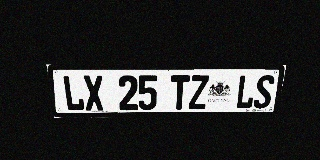2: (118, 75, 138, 110)
5: (138, 75, 157, 110)
L: (62, 75, 85, 111), (235, 75, 257, 109)
S: (253, 75, 275, 109)
T: (170, 75, 190, 110)
X: (83, 75, 105, 111)
Z: (189, 75, 209, 109)
